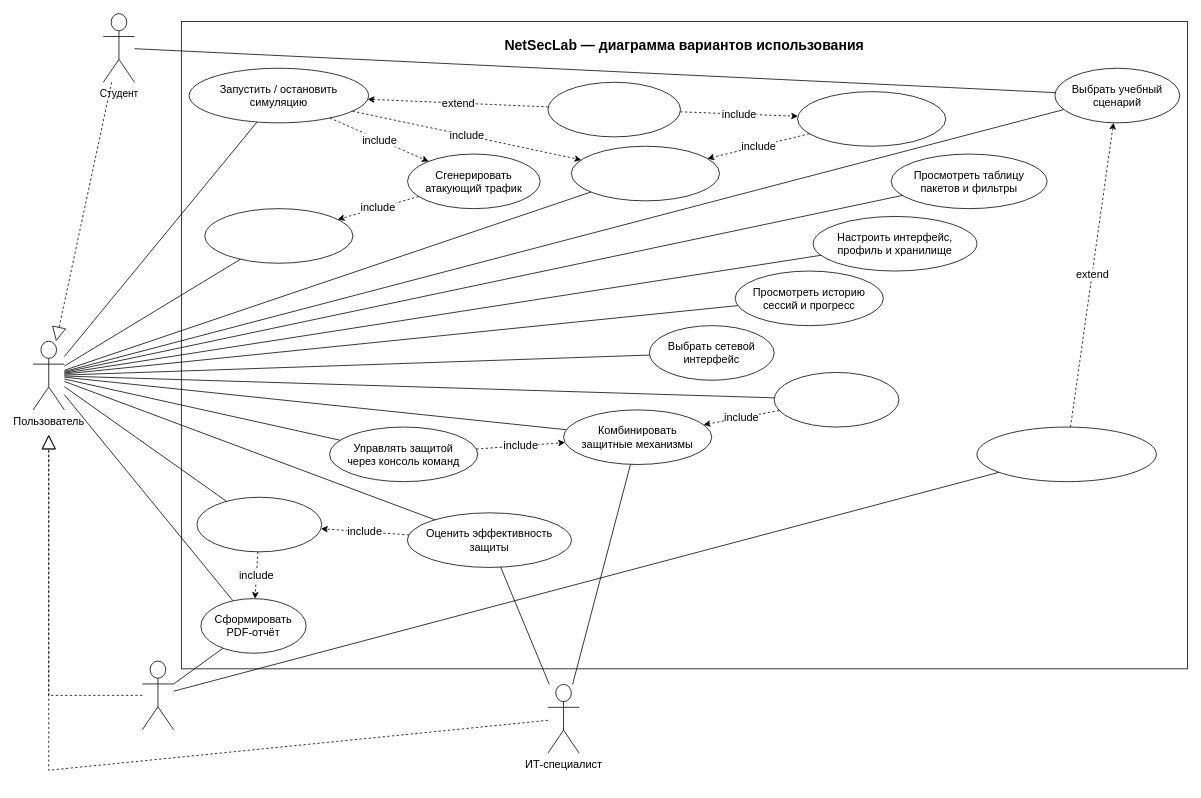
Some shapes in this 1201 by 798 pixel diagram are drawn without their labels. Each missing label, with the centre of its shape:
"Включить защиту через GUI" belongs at pixel 836 399.
"Декодировать и анализировать пакеты" belongs at pixel 871 118.
"Захватить пакеты loopback" belongs at pixel 614 109.
"Наблюдать графики и анимацию" belongs at pixel 645 173.
"Настроить параметры атаки" belongs at pixel 278 235.
"Получить итоговую оценку" belongs at pixel 259 524.
"Преподаватель" belongs at pixel 158 695.
"Провести учебную демонстрацию" belongs at pixel 1066 454.
